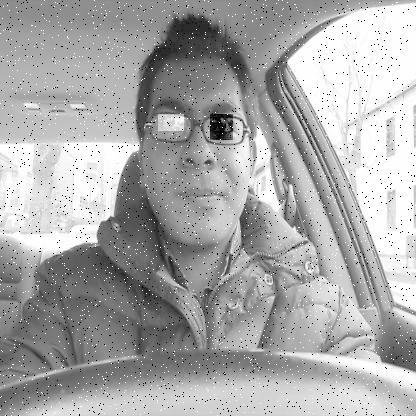seatbelt: (128, 0, 304, 352)
